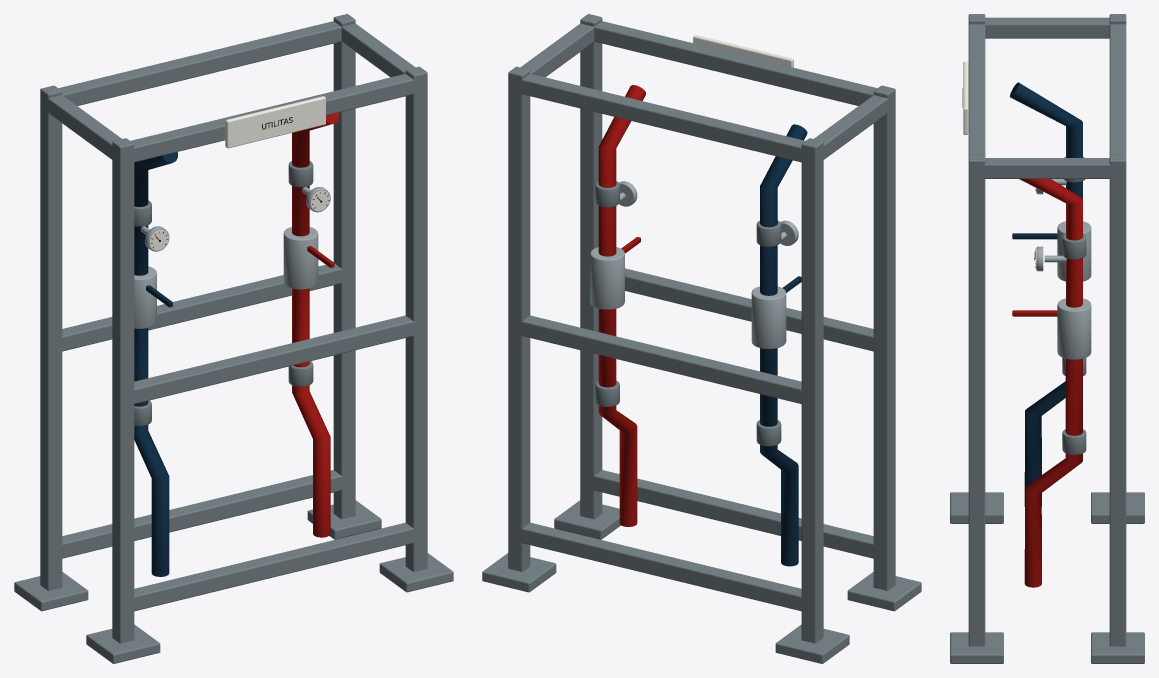
Rendered from OAA_UtilityRack_Pipes.fbx.
The picture shows the model from 3 angles, left to right: view 1: azimuth 30°, elevation 25°; view 2: azimuth 150°, elevation 25°; view 3: azimuth 270°, elevation 25°; orthographic projection. The views are drawn at different scales.
Visible parts, largest first — view 1: Body; view 2: Body; view 3: Body.
Boxes of the visible parts, x1,y1,x2,y2 form: Body: [14, 14, 453, 663]; Body: [482, 14, 921, 663]; Body: [950, 14, 1144, 663].
Bounding box in the file's own units: 0.93 × 1.33 × 0.47.
